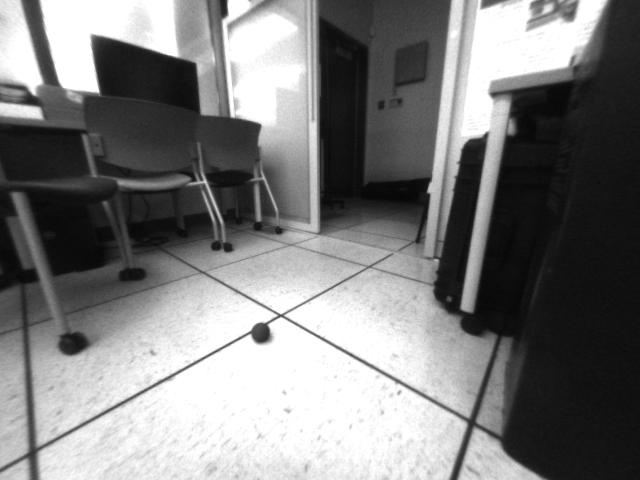dogtoy: (243, 317, 278, 348)
